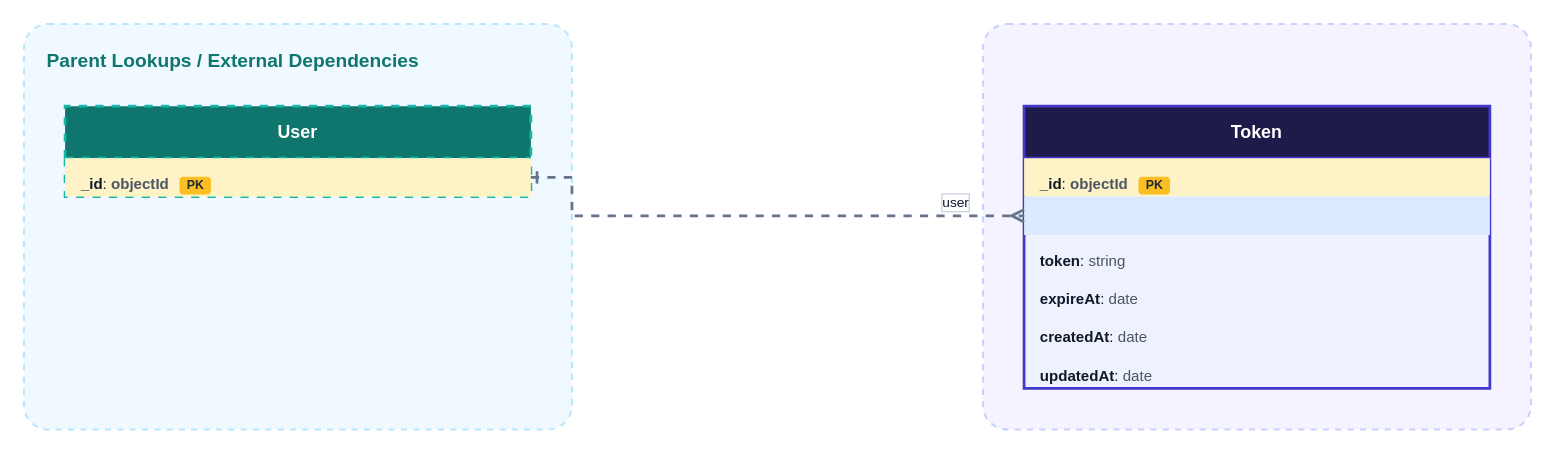
Image size: 1556x455. Some labels were removed from this diagram. Here are the shapes that lost their labels. From the top down, the box of each, then its label:
(1023, 196, 1489, 234): user: objectId FK
(981, 22, 1531, 430): Core Module: ResetToken
